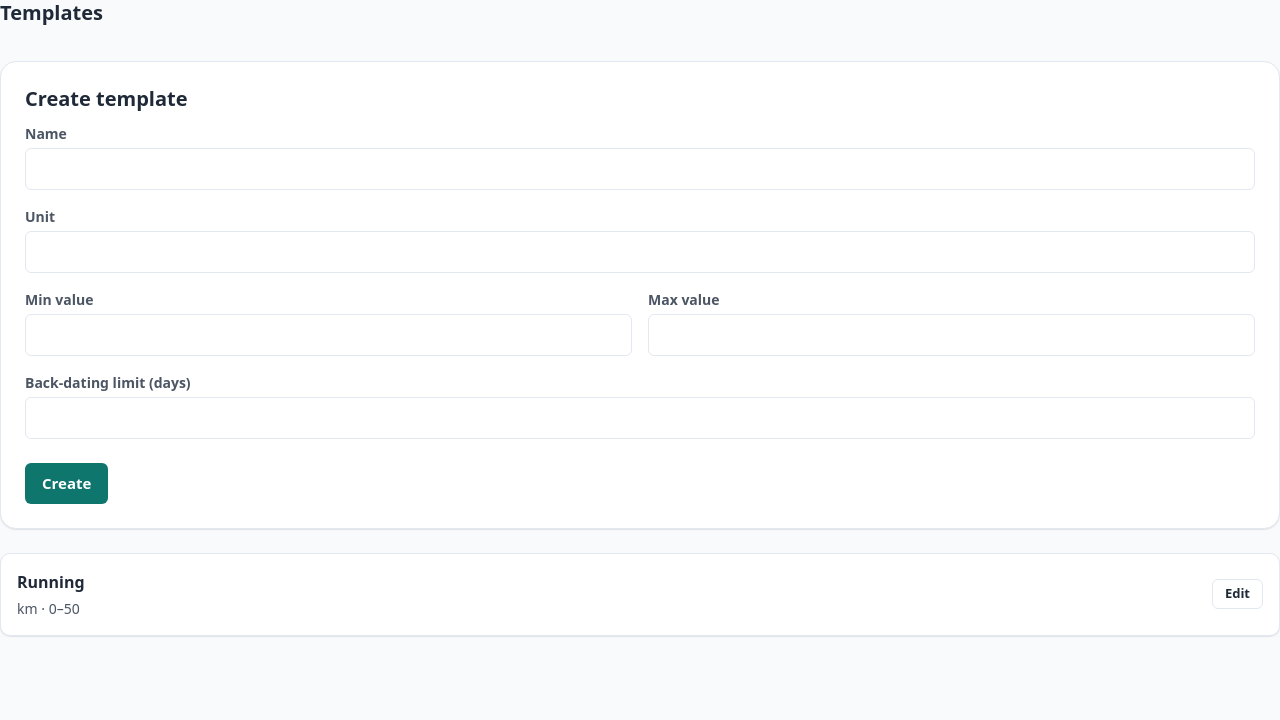
Scenario: AC-02.18 edit flow › TEST-02.18 pre-fills the form, sends PUT /templates/:id, and the list shows the new values
Expected: the text "Running" is shown, [17, 570, 85, 594]
Click the button "Edit" at (1237, 594), box [1212, 579, 1263, 609]
(page scrolled)
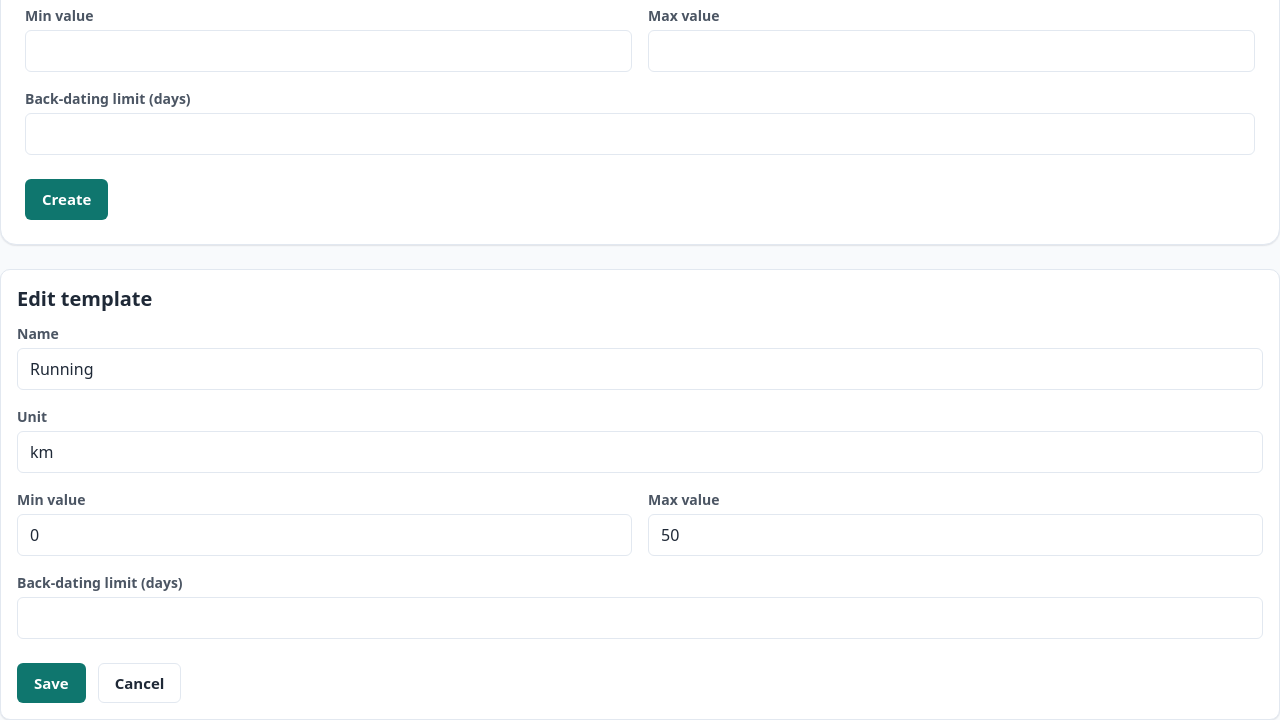
Result: the field labelled "Name" holds "Running" at [17, 348, 1263, 390]
Result: the 2nd number field labelled "Max value" holds "50"
Replace the text in the 2nd number field labelled "Max value" with "75" at (956, 534), box [648, 514, 1263, 556]
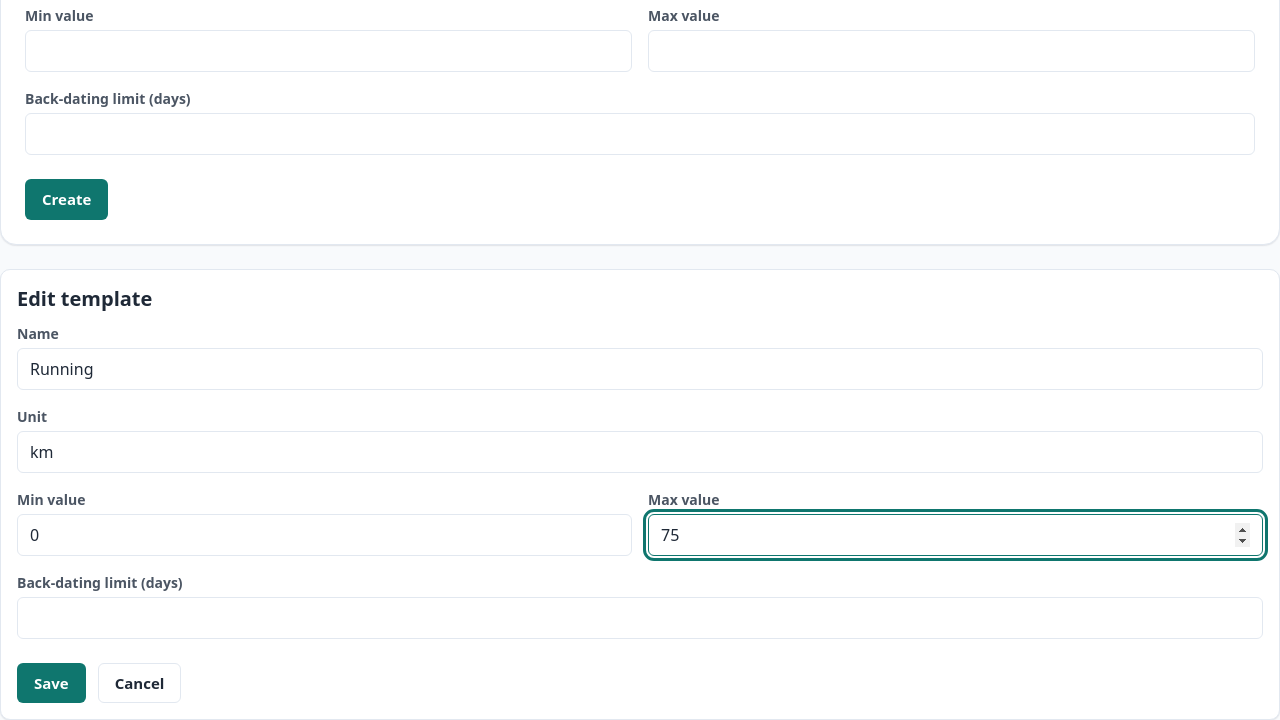
Click the button "Save" at (51, 683), box [17, 662, 86, 703]
(page scrolled)
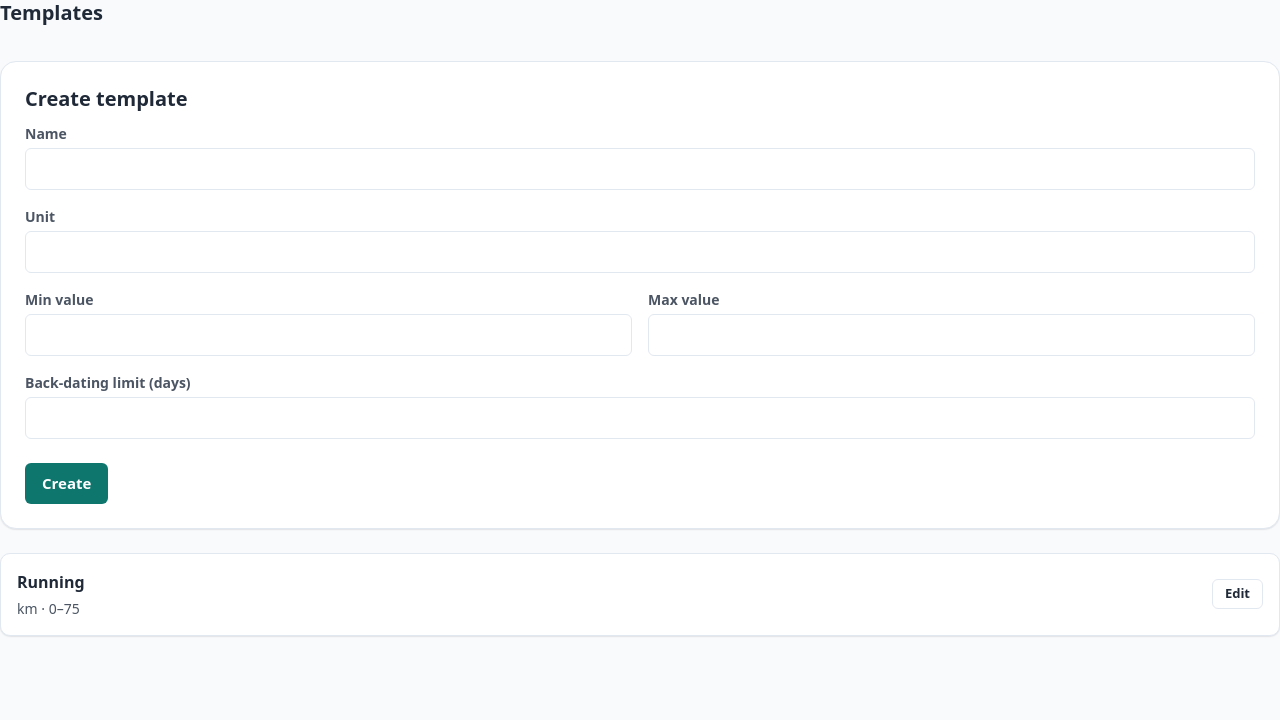
Result: the text "km · 0–75" is shown at [17, 598, 85, 618]
